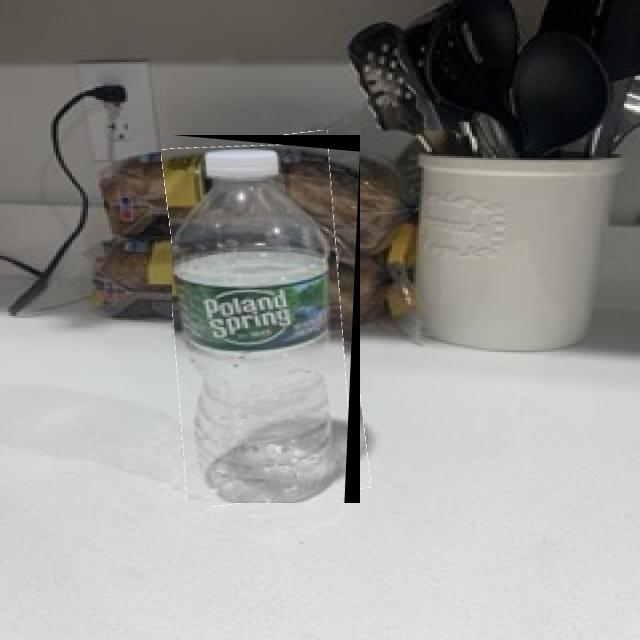water_bottle: (172, 135, 360, 503)
